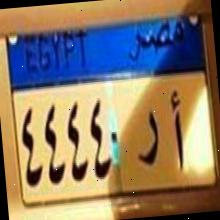4: (18, 102, 44, 190), (64, 101, 90, 185), (42, 104, 66, 186), (88, 97, 111, 182)
alif: (166, 86, 190, 170)
raa: (134, 109, 164, 168)
